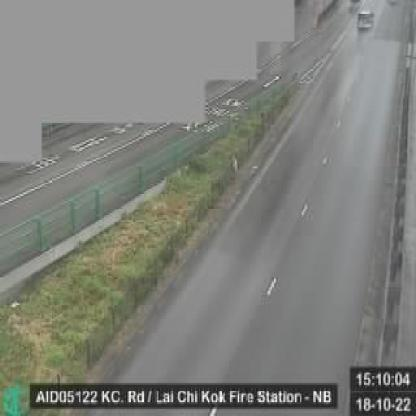Car: (355, 8, 376, 33)
